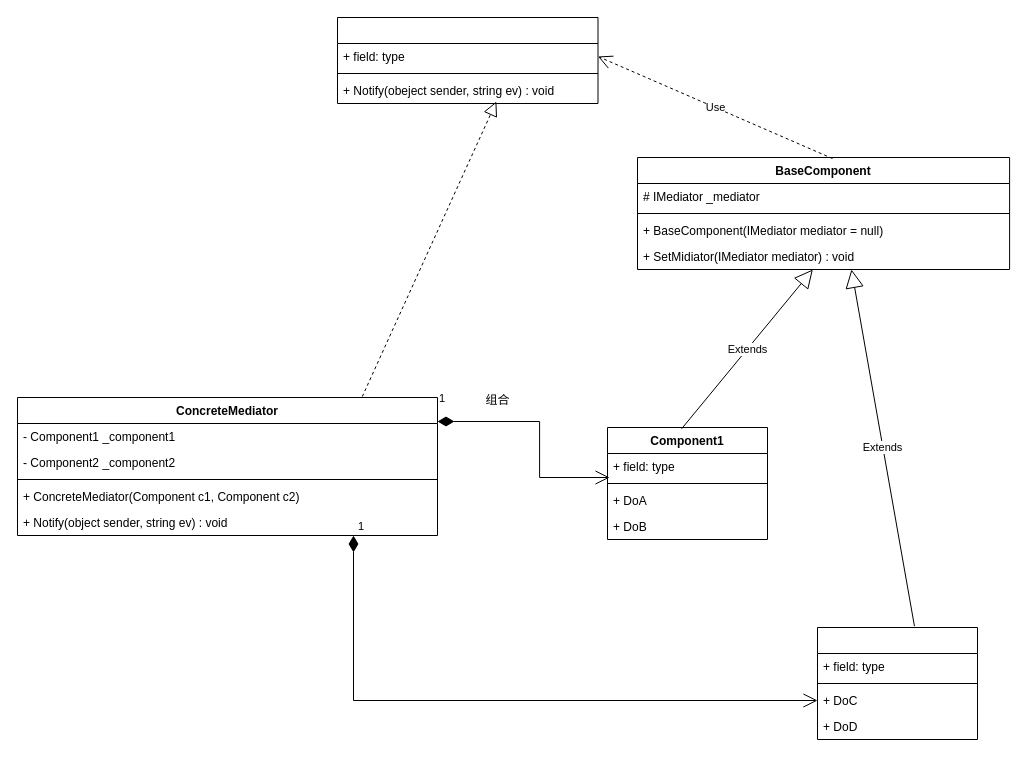
Some shapes in this 1028 by 760 pixel diagram are drawn without their labels. Here are the shapes that lost their labels. From the top down, the box of each, then its label:
(336, 16, 598, 104): <<IMediator>>
(816, 626, 978, 740): Component2
